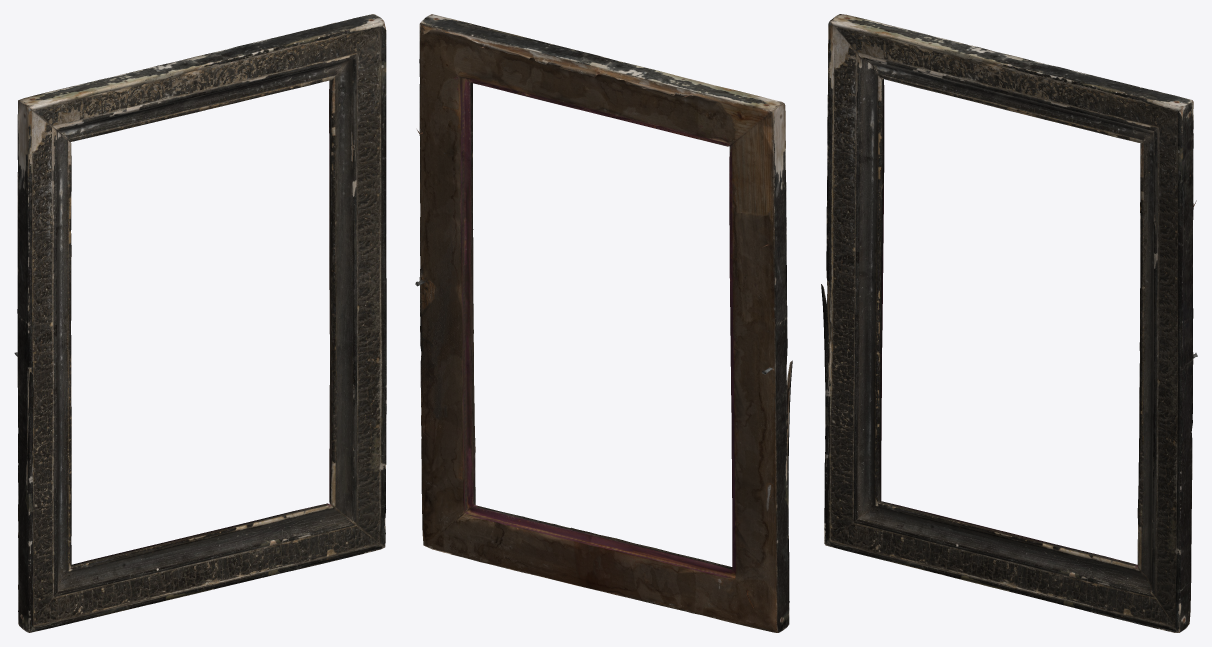
3 renders of one model, left to right at view 1: azimuth 30°, elevation 25°; view 2: azimuth 150°, elevation 25°; view 3: azimuth 330°, elevation 25°, orthographic.
Parts seen in each view (by area): view 1: ukpidjpaw_LOD0_TIER2_000; view 2: ukpidjpaw_LOD0_TIER2_000; view 3: ukpidjpaw_LOD0_TIER2_000.
Part boxes in pixels (<box>): ukpidjpaw_LOD0_TIER2_000: <box>14,14,386,632</box>; ukpidjpaw_LOD0_TIER2_000: <box>415,14,792,632</box>; ukpidjpaw_LOD0_TIER2_000: <box>821,14,1197,632</box>.
Size of the model in its own units: 0.491 by 0.6885 by 0.0501.
Materials: 1 (1 with a texture image).
